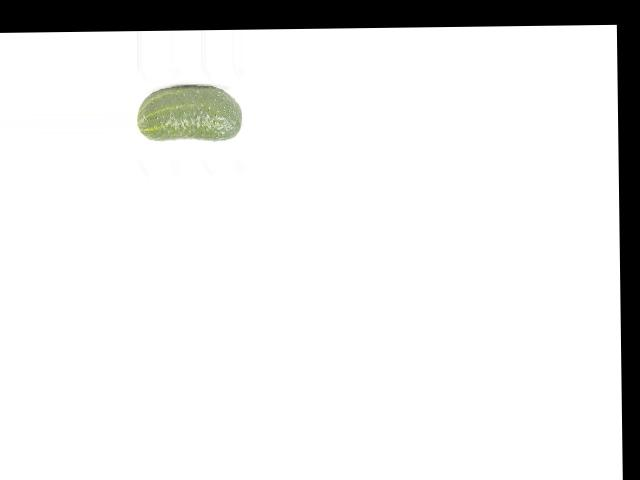cucumber: (136, 84, 242, 140)
